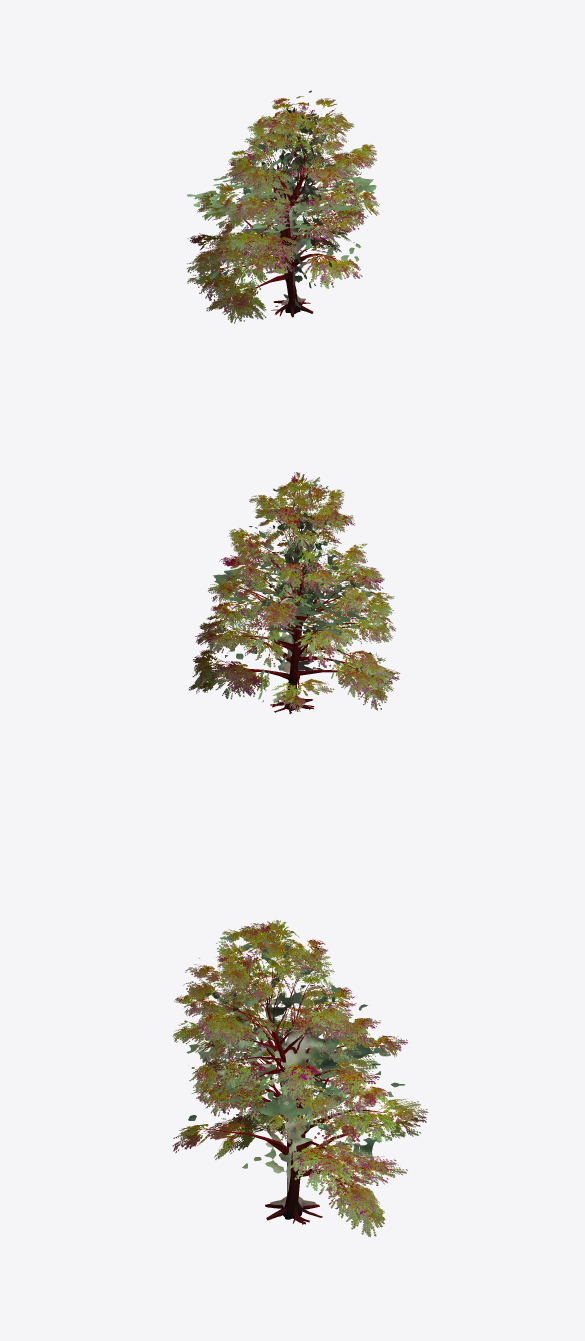
The model's file is Oak.glb.
3 renders of one model, top to bottom at view 1: azimuth 30°, elevation 25°; view 2: azimuth 150°, elevation 25°; view 3: azimuth 270°, elevation 25°, orthographic. The views are drawn at different scales.
Parts seen in each view (by area): view 1: Leafs Palmate (×4), Oakbillboard, Bark Oak (×2); view 2: Leafs Palmate (×4), Oakbillboard, Bark Oak (×2); view 3: Leafs Palmate (×4), Oakbillboard, Bark Oak (×3).
Part boxes in pixels (left/top/right/bottom): Leafs Palmate (×4): left=186, top=96, right=379, bottom=323; Oakbillboard: left=187, top=90, right=376, bottom=307; Bark Oak (×2): left=210, top=104, right=358, bottom=317; Leafs Palmate (×4): left=189, top=472, right=400, bottom=711; Oakbillboard: left=213, top=477, right=381, bottom=705; Bark Oak (×2): left=212, top=489, right=370, bottom=713; Leafs Palmate (×4): left=172, top=920, right=428, bottom=1237; Oakbillboard: left=184, top=937, right=405, bottom=1207; Bark Oak (×3): left=199, top=946, right=393, bottom=1224.
Size of the model in its own units: 29.77 by 17.08 by 29.77.
3 materials, 3 textured.
